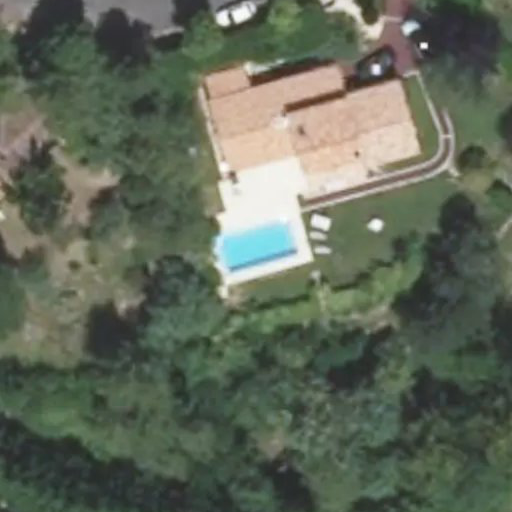pool: (214, 234, 297, 249)
